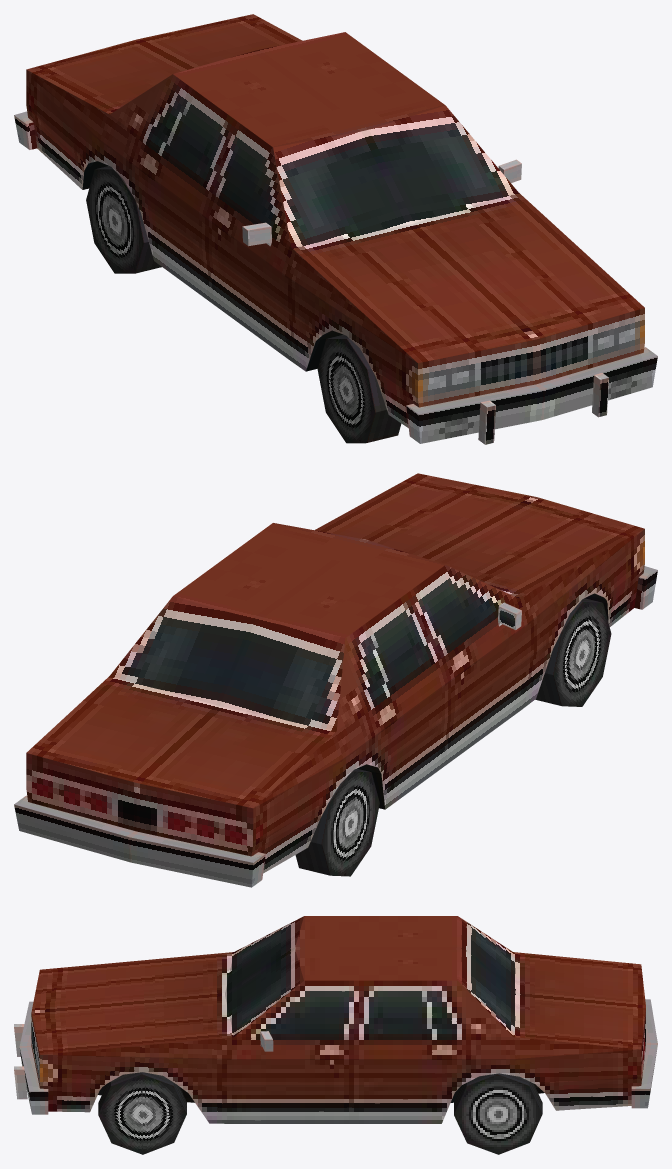
The model's file is car5.glb.
3 renders of one model, top to bottom at view 1: azimuth 30°, elevation 25°; view 2: azimuth 150°, elevation 25°; view 3: azimuth 270°, elevation 25°, orthographic. The views are drawn at different scales.
Parts seen in each view (by area): view 1: Car5; view 2: Car5; view 3: Car5.
Part boxes in pixels (x1=…): Car5: x1=14, y1=14, x2=657, y2=444; Car5: x1=14, y1=473, x2=657, y2=887; Car5: x1=14, y1=916, x2=657, y2=1154.
Bounding box in the file's own units: 2.78 × 2.05 × 7.37.
1 material, 1 textured.
